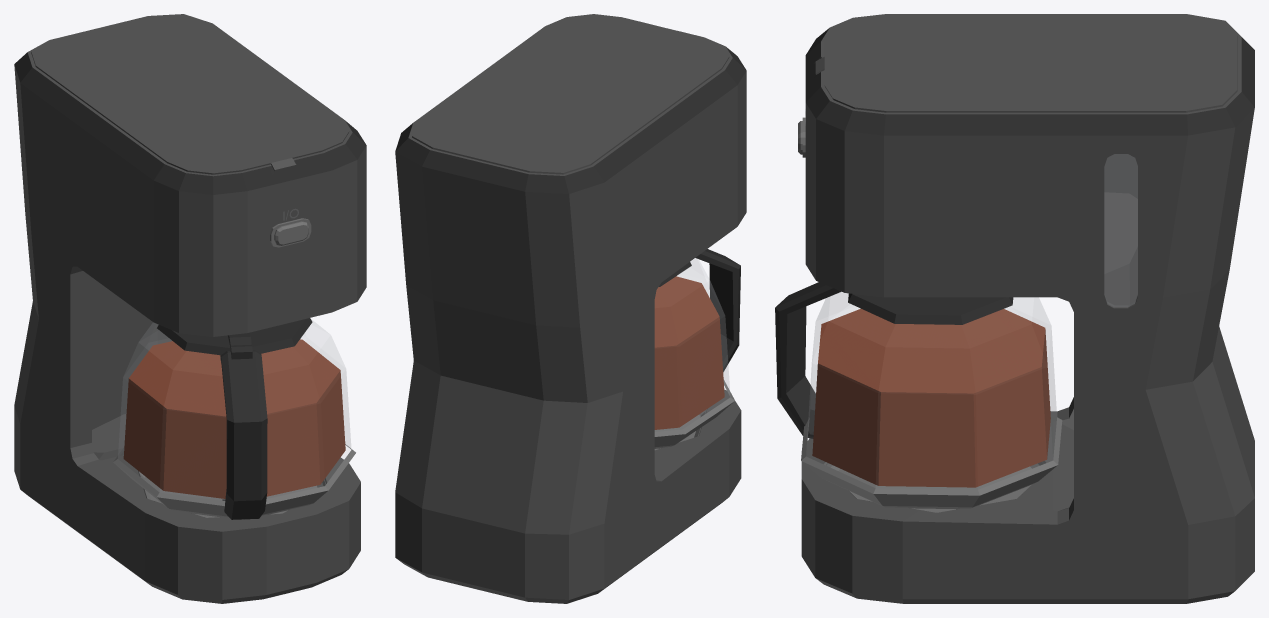
File: coffee_machine.glb
3 renders of one model, left to right at view 1: azimuth 30°, elevation 25°; view 2: azimuth 150°, elevation 25°; view 3: azimuth 270°, elevation 25°, orthographic. The views are drawn at different scales.
Parts seen in each view (by area): view 1: Machine_Cube.001, Jug_Cylinder.003; view 2: Machine_Cube.001, Jug_Cylinder.003; view 3: Machine_Cube.001, Jug_Cylinder.003.
Part boxes in pixels (x1,y1,x2,y2): Machine_Cube.001: [14, 14, 366, 603]; Jug_Cylinder.003: [123, 339, 345, 498]; Machine_Cube.001: [395, 14, 746, 603]; Jug_Cylinder.003: [654, 276, 724, 429]; Machine_Cube.001: [775, 14, 1254, 603]; Jug_Cylinder.003: [812, 309, 1050, 487].
Size of the model in its own units: 0.9108 by 1.83 by 1.63.
3 materials, 3 textured.
